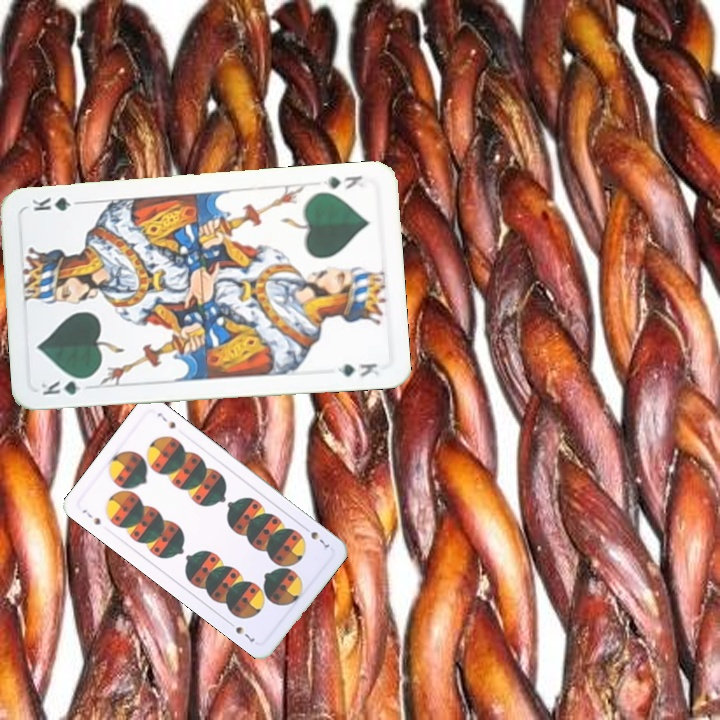GK: (37, 373, 95, 398), (320, 171, 365, 192)
S7: (299, 522, 332, 550), (78, 505, 103, 528)
